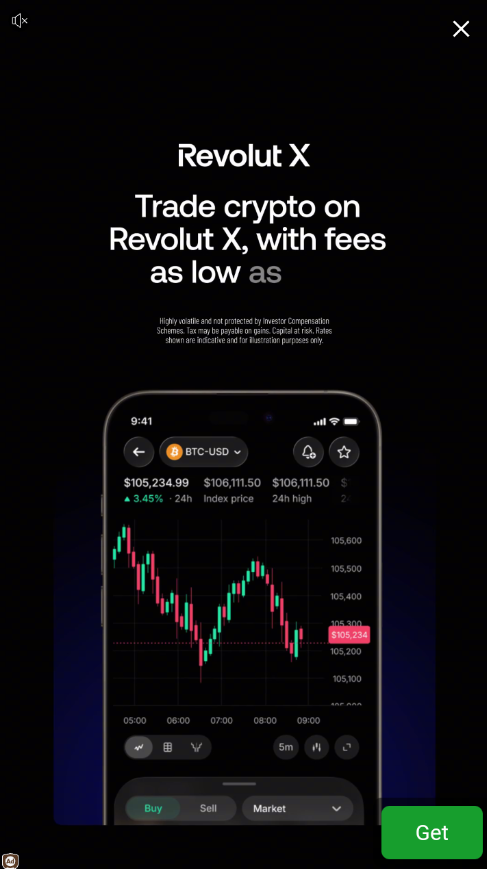close_button: (449, 14, 474, 43)
